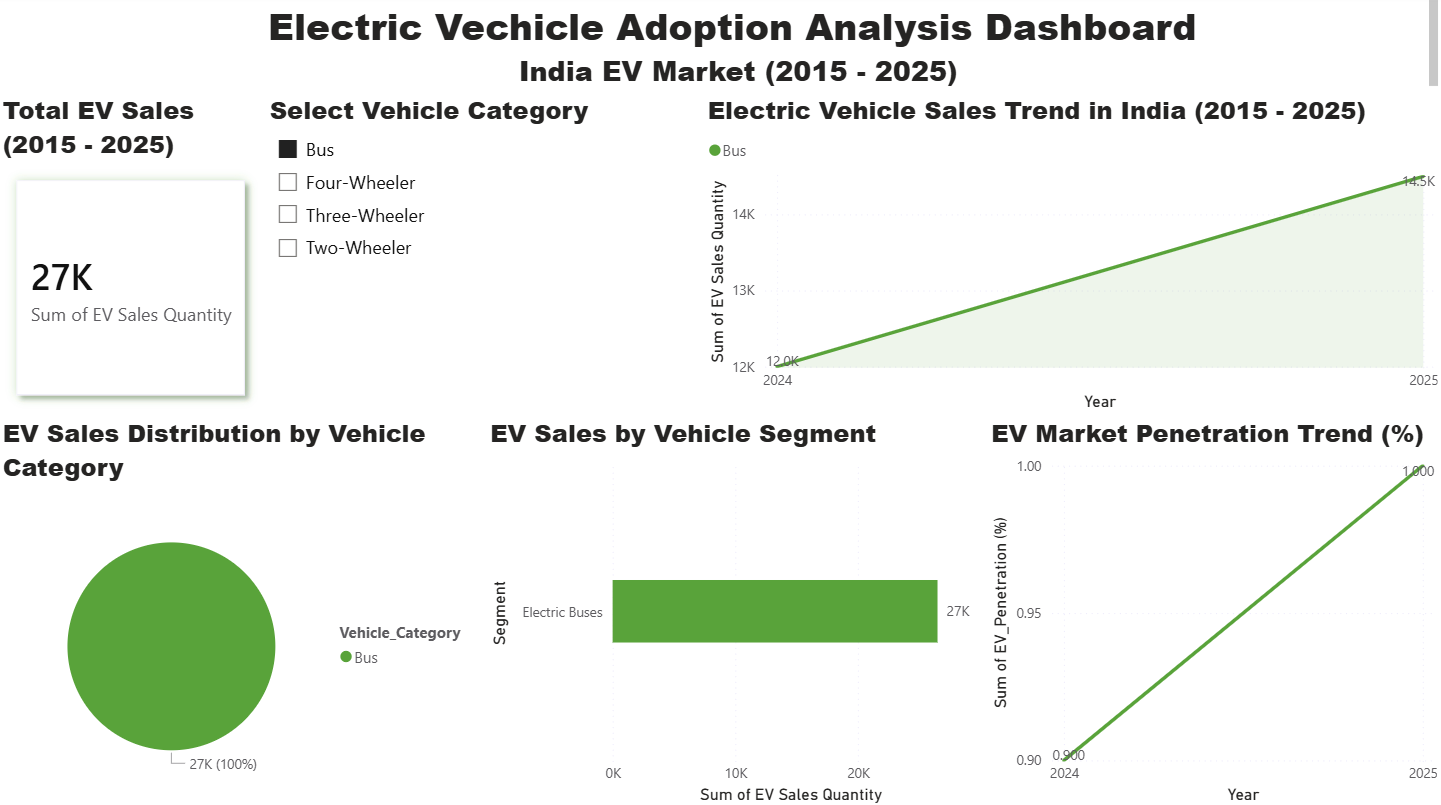

This screenshot's page, from the dashboard's own definition file:
{"tool":"powerbi","page":{"name":"Page 1","canvas":[1280,720],"ordinal":0},"visuals":[{"type":"lineChart","title":"Electric Vehicle Sales Trend in India (2015 - 2025)","fields":{"Category":["Indian_EV_Sales_2015_2025.Year"],"Series":["Indian_EV_Sales_2015_2025.Vehicle_Category"],"Y":["Sum(Indian_EV_Sales_2015_2025.EV Sales Quantity)"]},"box":[623.9,87.8,655.7,284.7],"z":0},{"type":"cardVisual","title":"Total EV Sales (2015 - 2025)","fields":{"Data":["Sum(Indian_EV_Sales_2015_2025.EV Sales Quantity)"]},"box":[0,87.8,236.2,284.7],"z":1000},{"type":"pieChart","title":"EV Sales Distribution by Vehicle Category","fields":{"Category":["Indian_EV_Sales_2015_2025.Vehicle_Category"],"Y":["Sum(Indian_EV_Sales_2015_2025.EV Sales Quantity)"]},"box":[0,372.3,430.9,347.7],"z":2000},{"type":"clusteredBarChart","title":"EV Sales by Vehicle Segment","fields":{"Category":["Indian_EV_Sales_2015_2025.Segment"],"Y":["Sum(Indian_EV_Sales_2015_2025.EV Sales Quantity)"]},"box":[430.9,372.3,444.1,347.7],"z":3000},{"type":"lineChart","title":"EV Market Penetration Trend (%)","fields":{"Category":["Indian_EV_Sales_2015_2025.Year"],"Y":["Sum(Indian_EV_Sales_2015_2025.EV_Penetration (%))"]},"box":[875,372.3,404.4,347.7],"z":4000},{"type":"slicer","title":"Select Vehicle Category","fields":{"Values":["Indian_EV_Sales_2015_2025.Vehicle_Category"]},"box":[236.2,87.8,387.6,284.7],"z":5000},{"type":"textbox","box":[0,0,1279.5,87.8],"z":6000}]}

Visuals, with their boxes in screenshot pixels (x1, y1, x2, y2), scaled from the page's 1280x720 canvas onto the 1441x805 screenshot:
"Electric Vehicle Sales Trend in India (2015 - 2025)" lineChart: select_region(702, 98, 1440, 416)
"Total EV Sales (2015 - 2025)" cardVisual: select_region(0, 98, 266, 416)
"EV Sales Distribution by Vehicle Category" pieChart: select_region(0, 416, 485, 804)
"EV Sales by Vehicle Segment" clusteredBarChart: select_region(485, 416, 985, 804)
"EV Market Penetration Trend (%)" lineChart: select_region(985, 416, 1440, 804)
"Select Vehicle Category" slicer: select_region(266, 98, 702, 416)
textbox: select_region(0, 0, 1440, 98)
